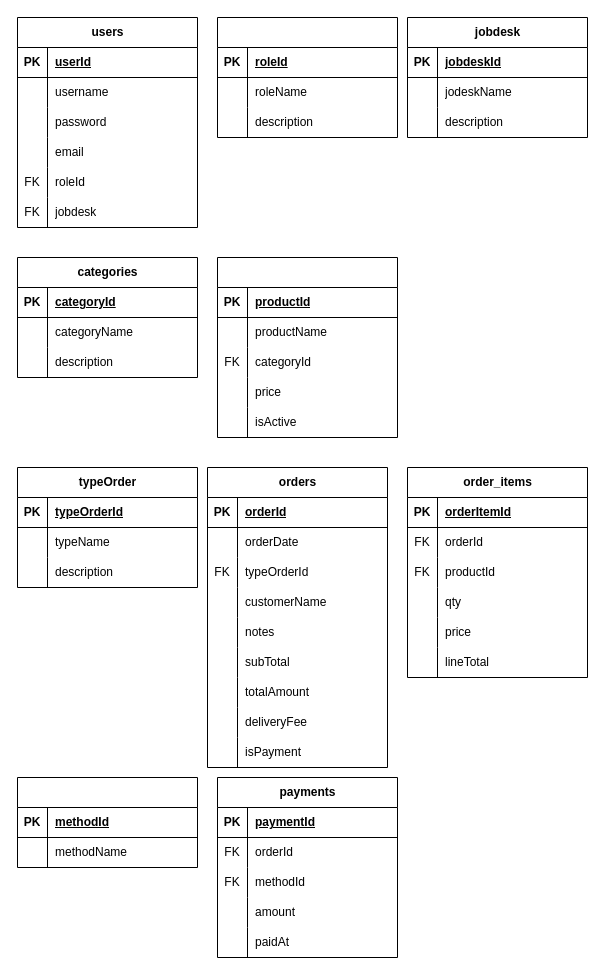
Some shapes in this 605 by 975 pixel diagram are drawn without their labels. The box of each missing label's shape, as (x1, y1, x2, y2) in pixels:
methodPayment: (16, 776, 198, 868)
products: (216, 256, 398, 438)
roles: (216, 16, 398, 138)
